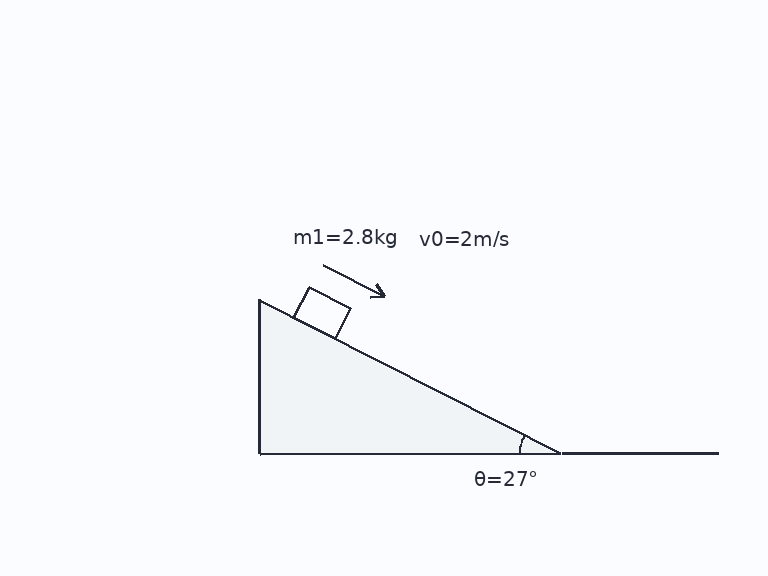block: (291, 285, 352, 340)
ramp: (257, 298, 562, 455)
